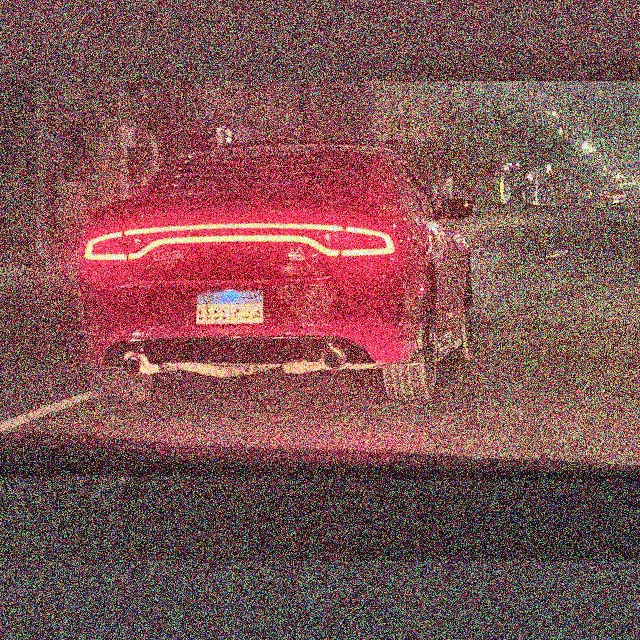License Plate: (194, 287, 265, 326)
